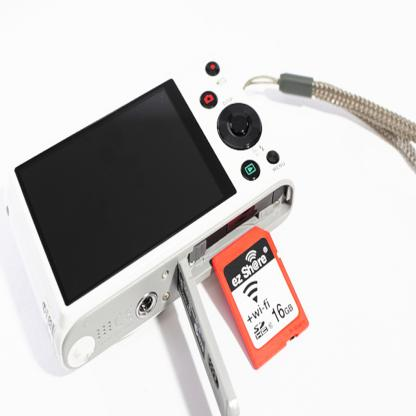Camera: (5, 51, 297, 416)
